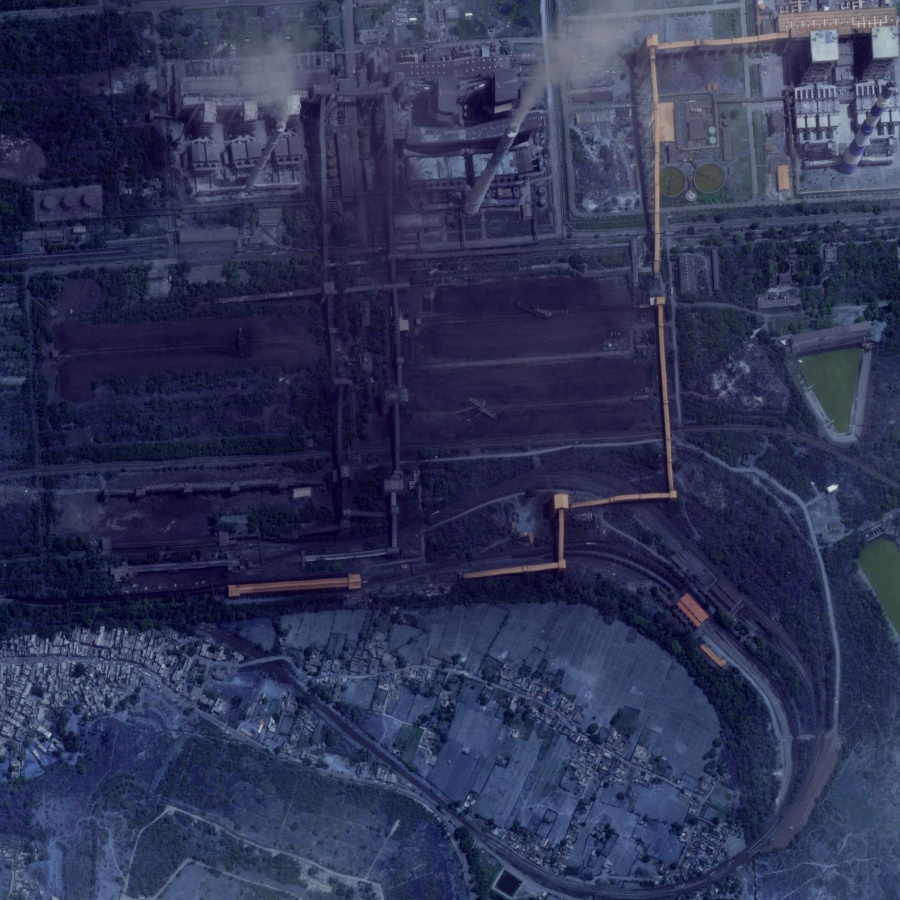PowerPlant: (24, 62, 657, 626)
